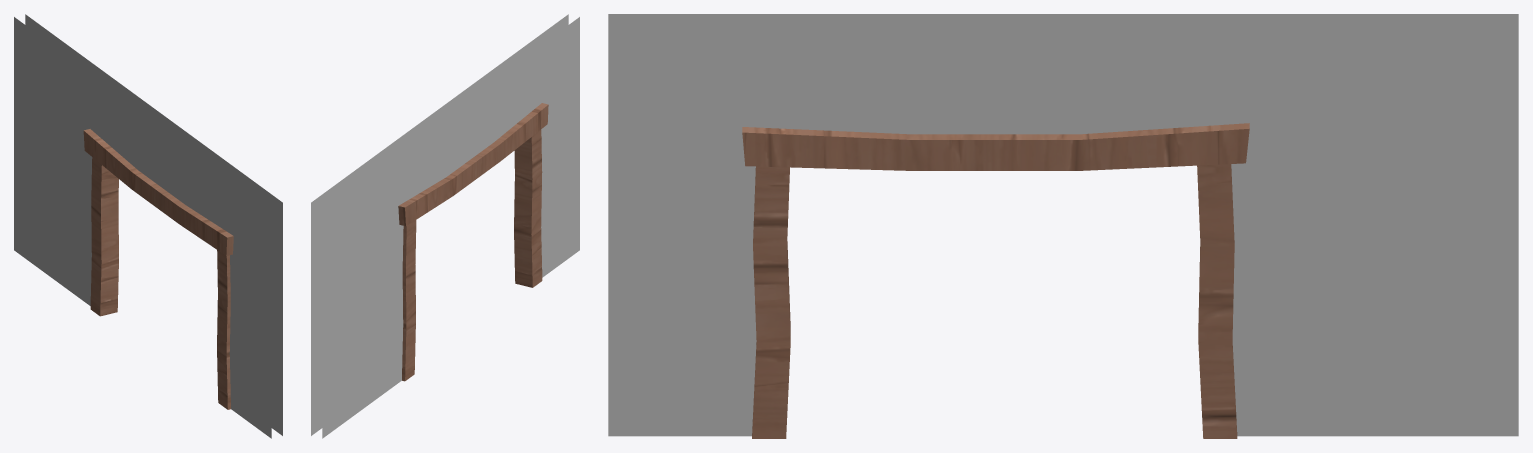
File: SM_wall_07.fbx
3 views of the same model, side by side, from view 1: azimuth 30°, elevation 25°; view 2: azimuth 150°, elevation 25°; view 3: azimuth 270°, elevation 25° (orthographic). The views are drawn at different scales.
Visible parts, largest first — view 1: SM_wall_07_LOD0; view 2: SM_wall_07_LOD0; view 3: SM_wall_07_LOD0.
Part boxes in pixels (box(x1,y1,x2,y2)): SM_wall_07_LOD0: box(14, 14, 282, 438); SM_wall_07_LOD0: box(311, 14, 579, 438); SM_wall_07_LOD0: box(608, 14, 1518, 438).
Size of the model in its own units: 43.6 by 800 by 400.
